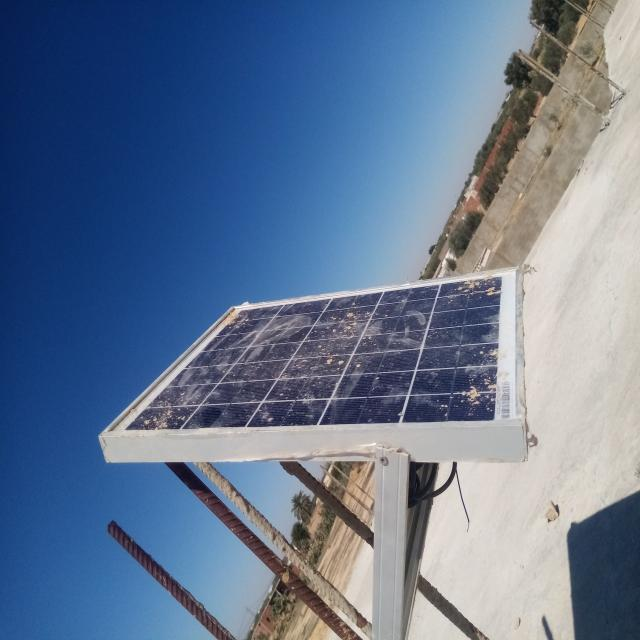faulty: (101, 267, 524, 436)
